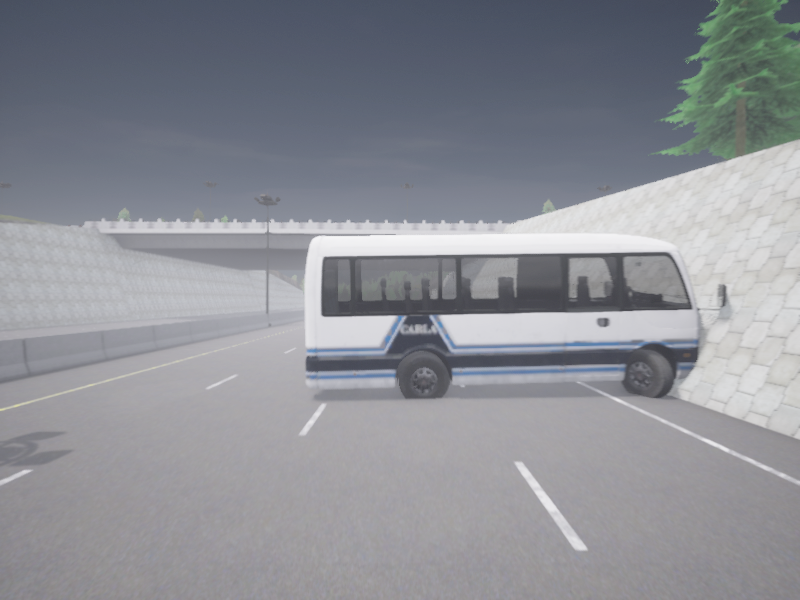vehicle: (305, 233, 726, 398)
